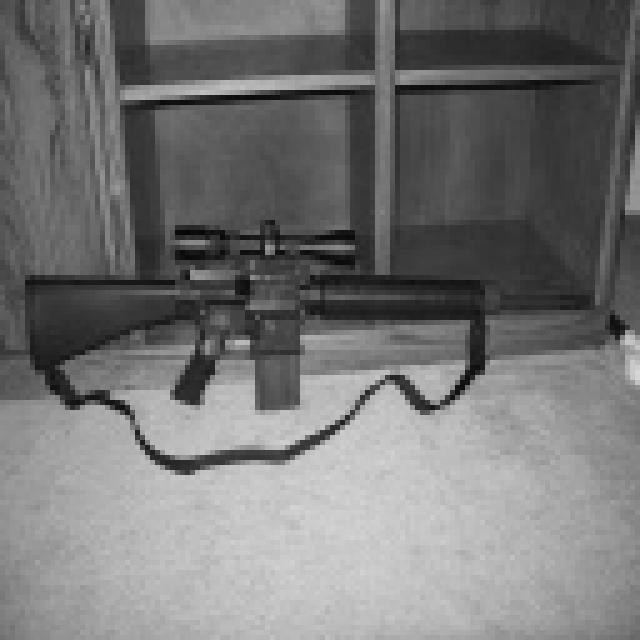Rifle: (0, 205, 620, 496)
